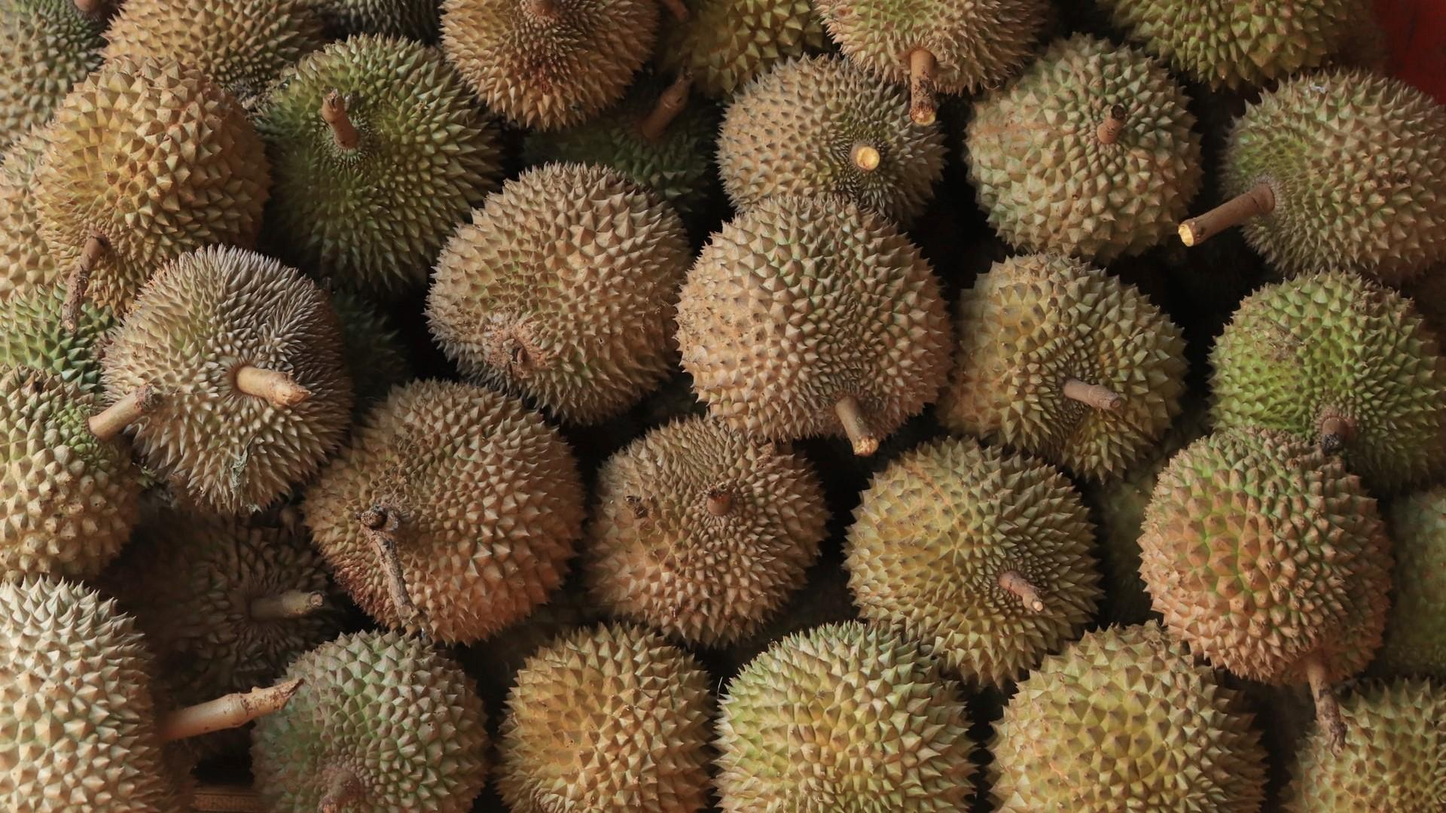sau_rieng: (1142, 422, 1396, 719), (102, 246, 364, 522), (678, 194, 962, 443), (844, 438, 1104, 705), (426, 166, 692, 416)
